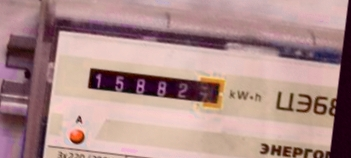1: (93, 71, 104, 88)
2: (176, 80, 188, 99)
5: (114, 74, 126, 91)
7: (198, 90, 208, 102)
8: (135, 77, 147, 94), (156, 79, 167, 97)
screen: (80, 58, 231, 114)
